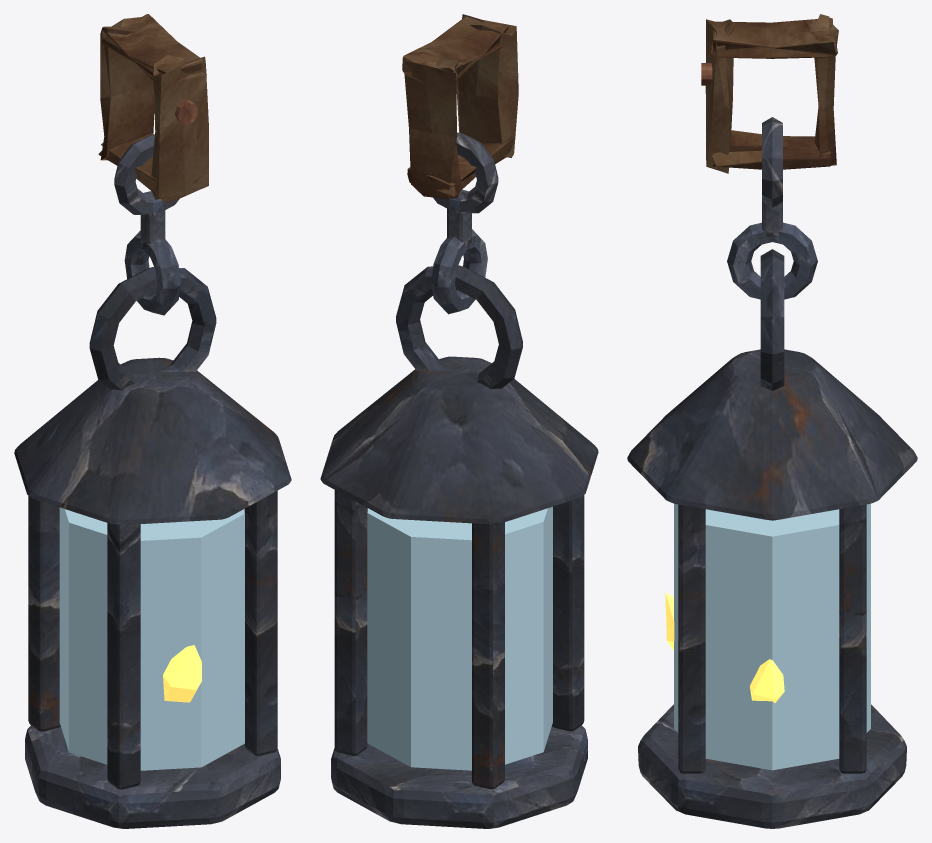
File: lantern_hip.glb
The picture shows the model from 3 angles, left to right: view 1: azimuth 30°, elevation 25°; view 2: azimuth 150°, elevation 25°; view 3: azimuth 270°, elevation 25°; orthographic projection.
Parts seen in each view (by area): view 1: model; view 2: model; view 3: model.
Boxes of the visible parts, box(x1,y1,x2,y2) form: model: box(14, 14, 291, 828); model: box(320, 14, 598, 828); model: box(627, 14, 917, 828).
Size of the model in its own units: 0.1916 by 0.5468 by 0.1916.
7 materials, 5 textured.
